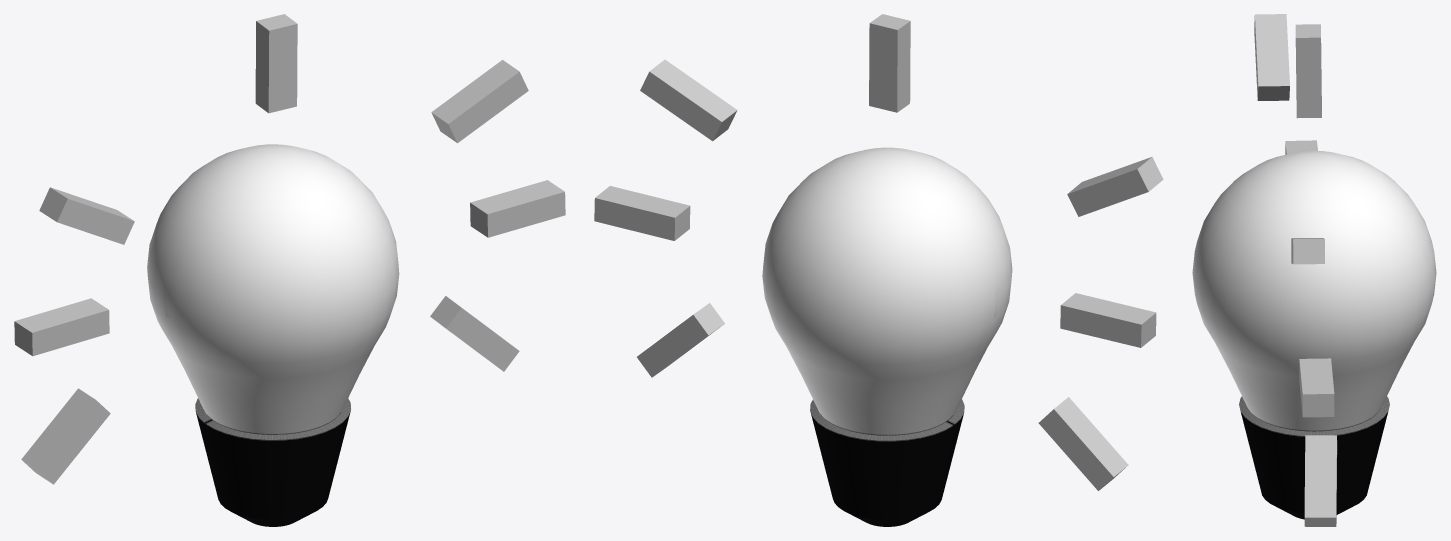
Rendered from glowingBulbg 1.fbx.
3 renders of one model, left to right at view 1: azimuth 30°, elevation 25°; view 2: azimuth 150°, elevation 25°; view 3: azimuth 270°, elevation 25°, orthographic. The views are drawn at different scales.
Visible parts, largest first — view 1: Sphere, Cube.003, Cube.005, Cube, Cube.006, Cube.007, Cube.001, Cube.004; view 2: Sphere, Cube.003, Cube, Cube.005, Cube.007, Cube.006, Cube.001, Cube.004; view 3: Sphere, Cube.004, Cube.001, Cube.003, Cube.006, Cube, Cube.007.
Boxes of the visible parts, bbox=[...] form: Sphere: bbox=[147, 144, 399, 526]; Cube.003: bbox=[255, 14, 297, 113]; Cube.005: bbox=[21, 388, 110, 484]; Cube: bbox=[431, 60, 528, 143]; Cube.006: bbox=[470, 180, 565, 237]; Cube.007: bbox=[14, 298, 109, 356]; Cube.001: bbox=[39, 187, 134, 244]; Cube.004: bbox=[430, 296, 519, 371]; Sphere: bbox=[762, 147, 1012, 526]; Cube.003: bbox=[869, 14, 910, 112]; Cube: bbox=[640, 59, 737, 141]; Cube.005: bbox=[1038, 397, 1128, 490]; Cube.007: bbox=[1060, 293, 1156, 347]; Cube.006: bbox=[594, 186, 690, 240]; Cube.001: bbox=[1067, 157, 1163, 216]; Cube.004: bbox=[637, 303, 724, 377]; Sphere: bbox=[1192, 150, 1436, 519]; Cube.004: bbox=[1304, 435, 1337, 526]; Cube.001: bbox=[1254, 14, 1289, 100]; Cube.003: bbox=[1295, 24, 1321, 118]; Cube.006: bbox=[1299, 358, 1334, 417]; Cube: bbox=[1291, 238, 1324, 264]; Cube.007: bbox=[1285, 140, 1317, 154].
Bounding box in the file's own units: 497 × 433 × 200.
